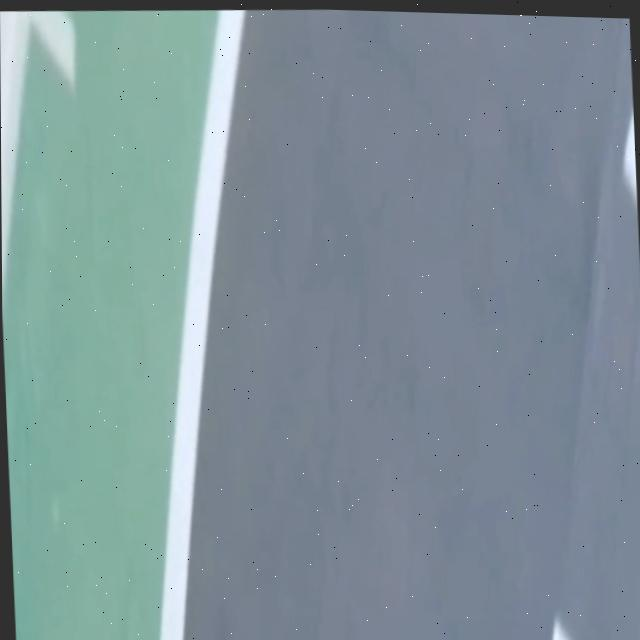center: (624, 106, 637, 201), (553, 621, 570, 640)
right: (161, 10, 246, 640)
